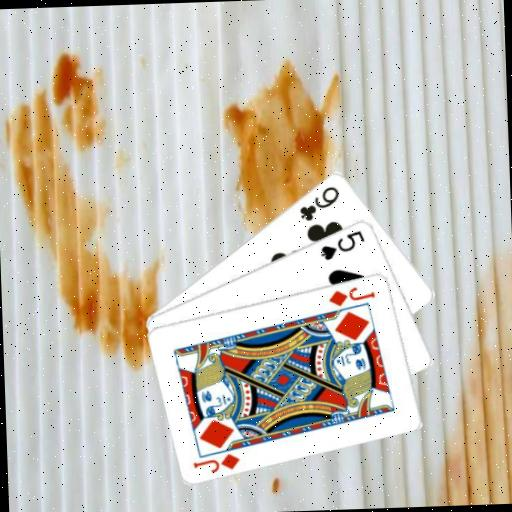5S: (316, 226, 366, 261)
9C: (295, 182, 342, 223)
JD: (190, 449, 242, 475), (325, 283, 377, 308)
